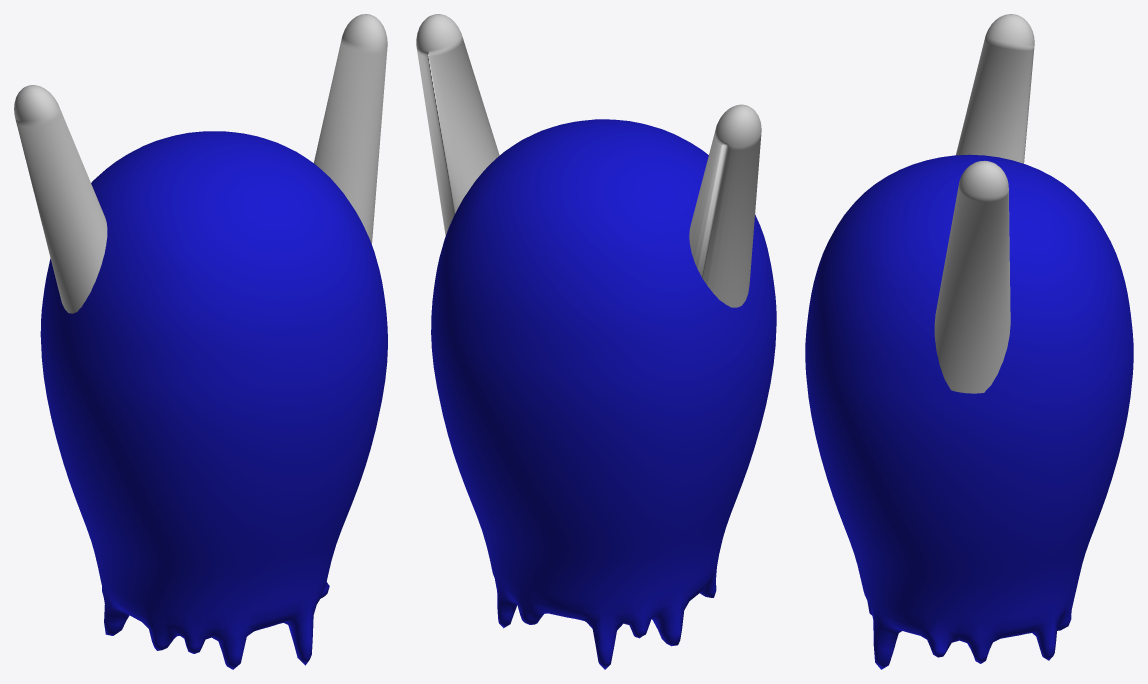
File: beforeThrow_000035.obj
The picture shows the model from 3 angles, left to right: view 1: azimuth 30°, elevation 25°; view 2: azimuth 150°, elevation 25°; view 3: azimuth 270°, elevation 25°; orthographic projection. The views are drawn at different scales.
Visible parts, largest first — view 1: Cube, Sphere.001, Sphere; view 2: Cube, Sphere.001, Sphere; view 3: Cube, Sphere, Sphere.001.
Part boxes in pixels (<box>): Cube: <box>40,131,387,669</box>; Sphere.001: <box>14,85,107,313</box>; Sphere: <box>314,14,387,244</box>; Cube: <box>431,119,776,669</box>; Sphere.001: <box>689,104,761,307</box>; Sphere: <box>416,14,499,235</box>; Cube: <box>805,154,1133,669</box>; Sphere: <box>934,160,1010,393</box>; Sphere.001: <box>956,14,1034,163</box>.
Bounding box in the file's own units: 0.3413 × 0.5394 × 0.2859.
